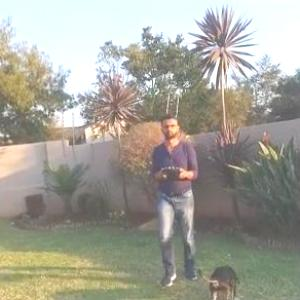follow: (149, 109, 203, 290)
null: (197, 265, 247, 299)
